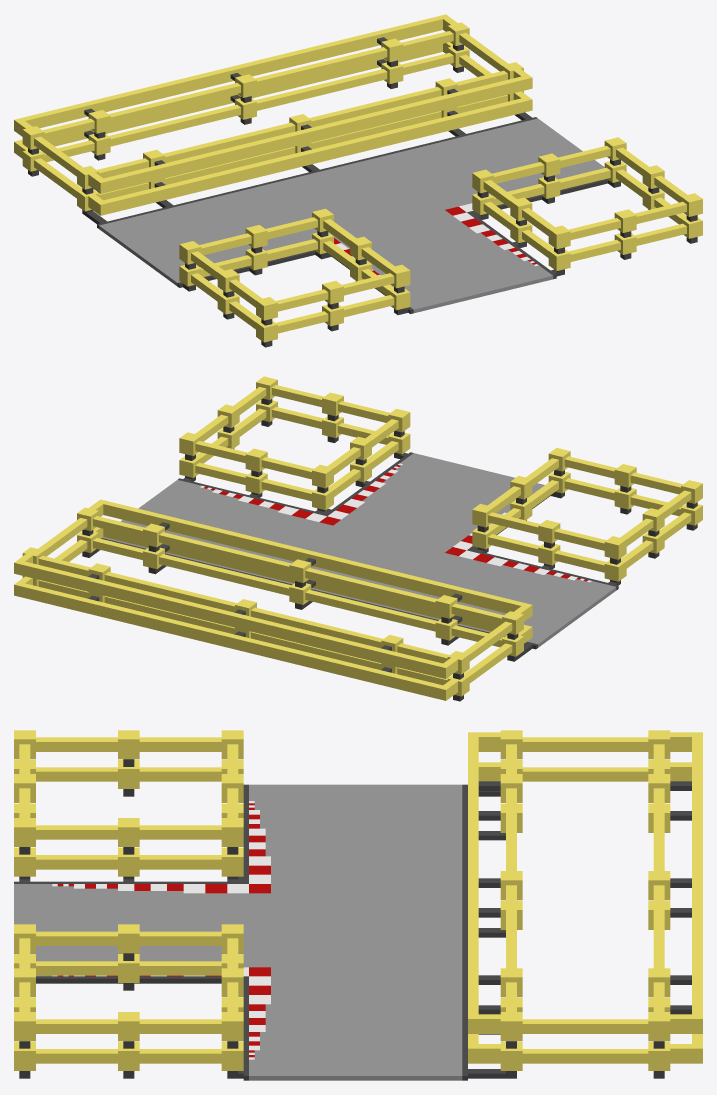
The model's file is tjunction.obj.
The picture shows the model from 3 angles, top to bottom: view 1: azimuth 30°, elevation 25°; view 2: azimuth 150°, elevation 25°; view 3: azimuth 270°, elevation 25°; orthographic projection. The views are drawn at different scales.
Size of the model in its own units: 126 by 12 by 126.
Materials: 1 (1 with a texture image).
